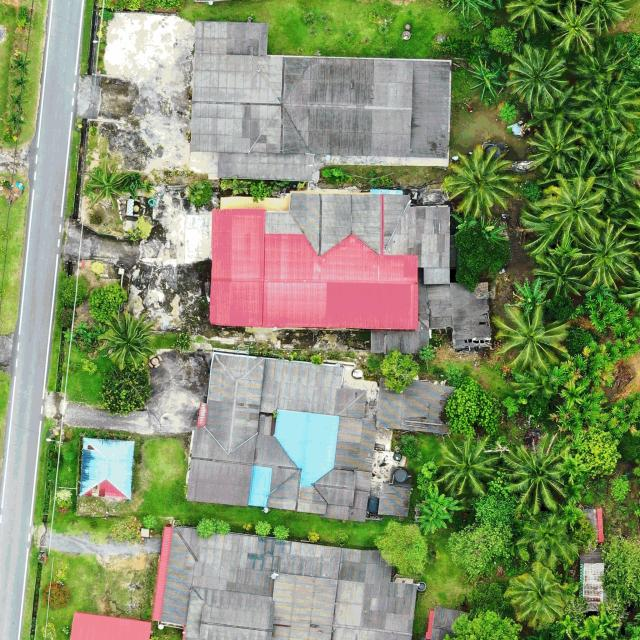Tree: (438, 143, 530, 222), (518, 177, 604, 253), (491, 302, 568, 373), (569, 217, 639, 290), (501, 438, 568, 514), (453, 222, 512, 294), (504, 562, 570, 626), (506, 42, 569, 108), (436, 435, 498, 497), (96, 309, 158, 369), (447, 520, 511, 576), (373, 518, 430, 578), (518, 512, 580, 567), (578, 78, 640, 132), (568, 38, 630, 92), (414, 478, 471, 534), (526, 119, 583, 174), (600, 534, 640, 607), (445, 376, 494, 433), (532, 252, 590, 300), (101, 365, 152, 417), (549, 0, 596, 54), (575, 426, 621, 476), (504, 0, 566, 36), (84, 162, 130, 206), (380, 347, 420, 395), (578, 0, 631, 33), (468, 56, 506, 102), (88, 282, 128, 323), (510, 276, 553, 310), (441, 0, 497, 20), (188, 179, 215, 210), (195, 516, 231, 539), (172, 331, 193, 354), (491, 58, 511, 80), (252, 519, 270, 537), (272, 524, 290, 539), (73, 321, 89, 336), (62, 328, 76, 343)
